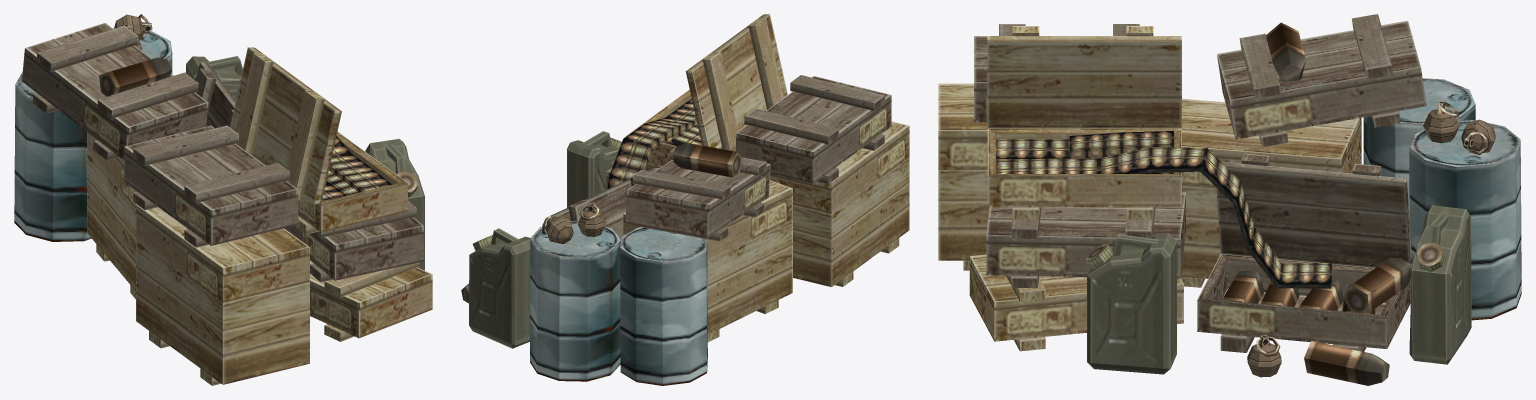
File: C1SMAMMODUMP.bgf.obj
3 renders of one model, left to right at view 1: azimuth 30°, elevation 25°; view 2: azimuth 150°, elevation 25°; view 3: azimuth 270°, elevation 25°, orthographic. The views are drawn at different scales.
Parts seen in each view (by area): view 1: FRAG01, FRAG02, FRAG03, FRAG04, AMMODUMP, FRAG; view 2: FRAG01, FRAG03, FRAG, FRAG04, AMMODUMP, FRAG02; view 3: FRAG02, AMMODUMP, FRAG03, FRAG, FRAG01, FRAG04.
Boxes of the visible parts, x1,y1,x2,y2 form: FRAG01: (124,125,309,385); FRAG02: (230,47,432,341); FRAG03: (22,22,208,298); FRAG04: (14,72,91,241); AMMODUMP: (186,53,424,270); FRAG: (113,14,172,73); FRAG01: (736,75,909,286); FRAG03: (623,143,792,342); FRAG: (530,203,620,381); FRAG04: (620,227,707,385); AMMODUMP: (461,51,737,348); FRAG02: (606,14,787,188); FRAG02: (969,26,1331,351); AMMODUMP: (1084,26,1471,385); FRAG03: (1180,14,1426,287); FRAG: (1409,101,1521,320); FRAG01: (938,24,1139,270); FRAG04: (1363,78,1475,218).
Size of the model in its own units: 3.6 by 2.73 by 5.4.
Materials: 14 (14 with a texture image).
